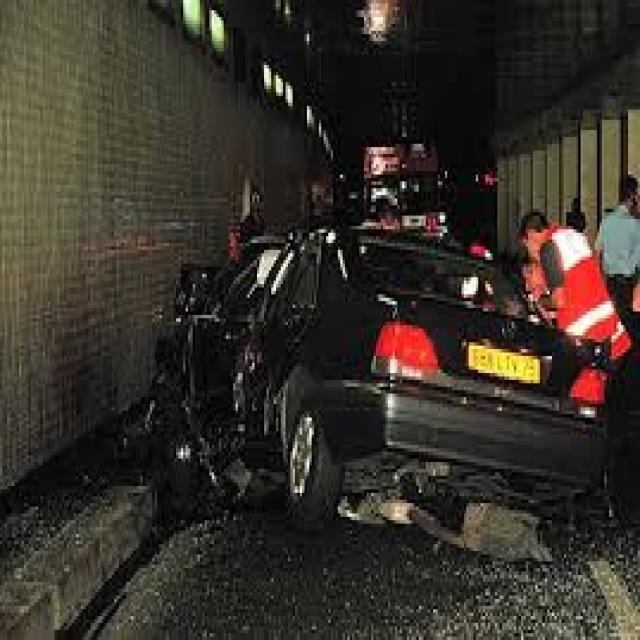severe: (149, 228, 578, 566)
